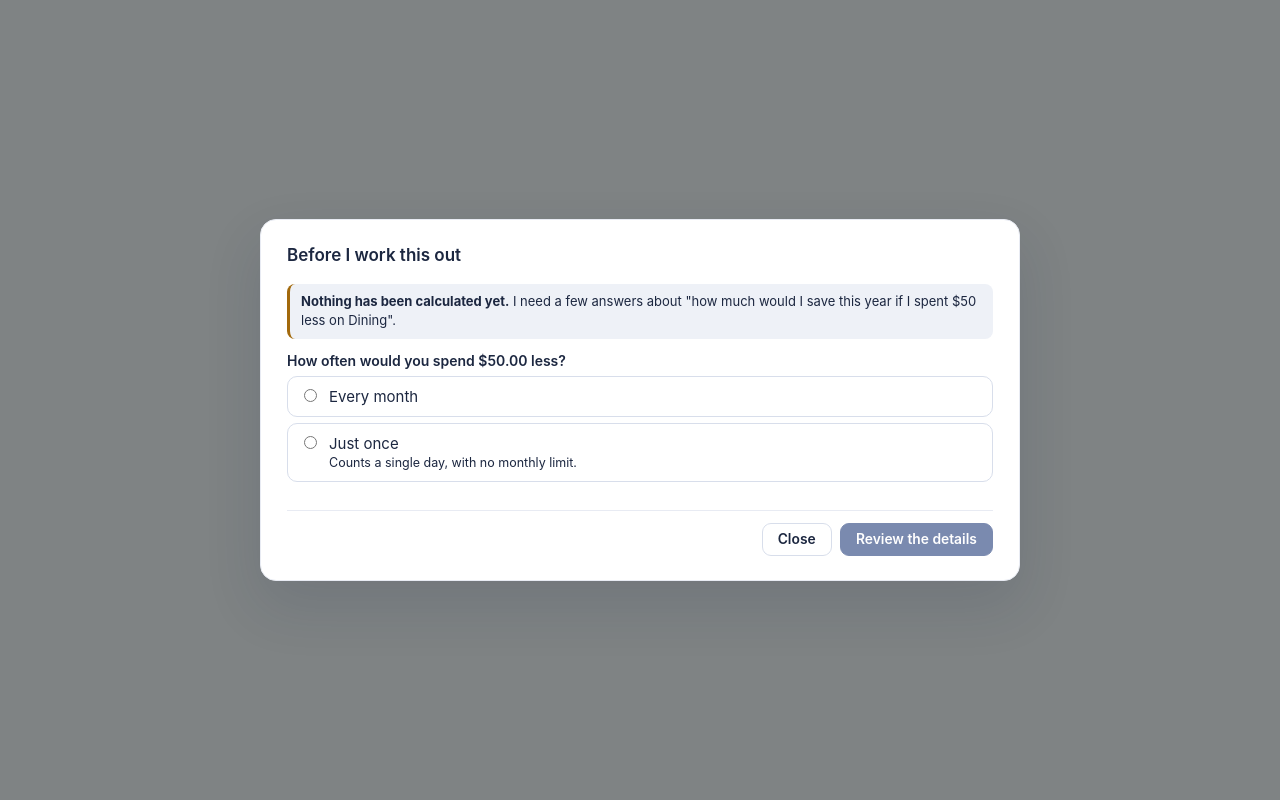
it: the choices screen › a different draft starts clean: nothing chosen for the old one carries over
The image size is (1280, 800).
Click the radio button labelled "Just once Counts a single day, with no monthly limit.".
click(310, 443)  # box [304,436,317,449]
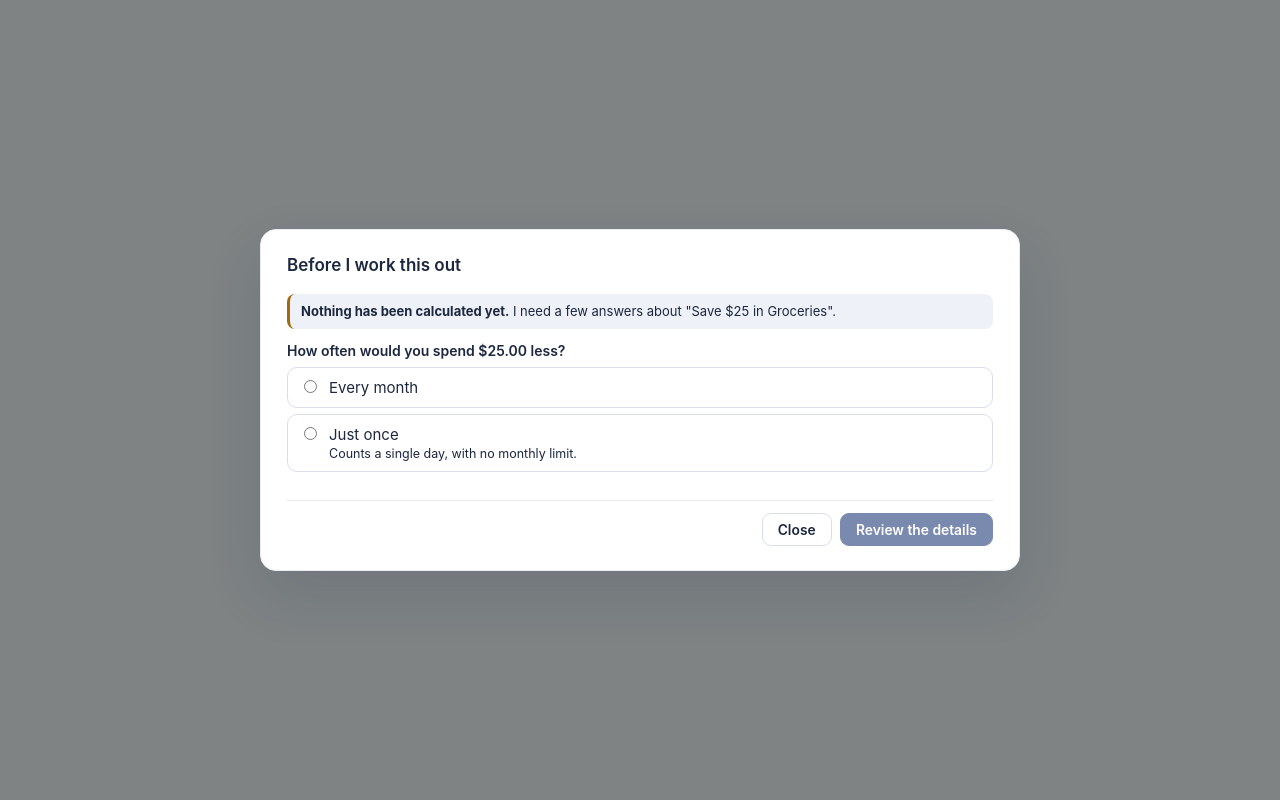
Expected: the button "Review the details" is disabled, [840,513,993,546]
Expected: the dialog shows "Save $25 in Groceries", [692,302,827,318]
